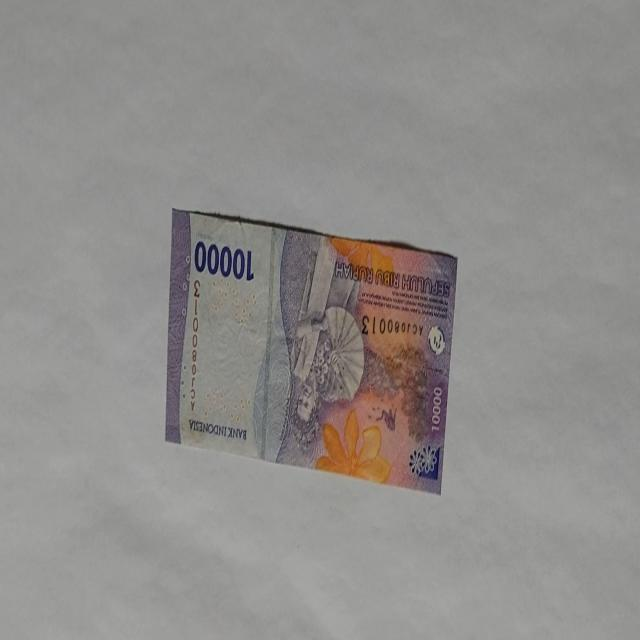sepuluh ribu rupiah: (164, 205, 458, 496)
